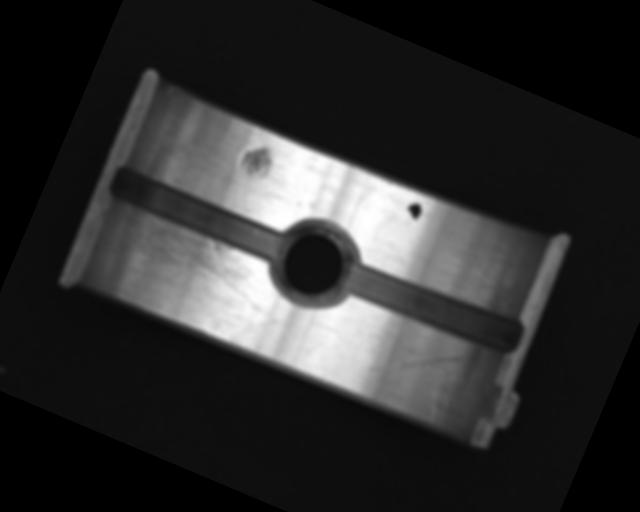blot: (402, 199, 424, 226)
bruise: (237, 141, 280, 184)
gap: (340, 251, 530, 363), (103, 160, 292, 270)
hole: (258, 205, 370, 320)
nick: (366, 322, 467, 405)
scratch: (92, 199, 282, 334)
